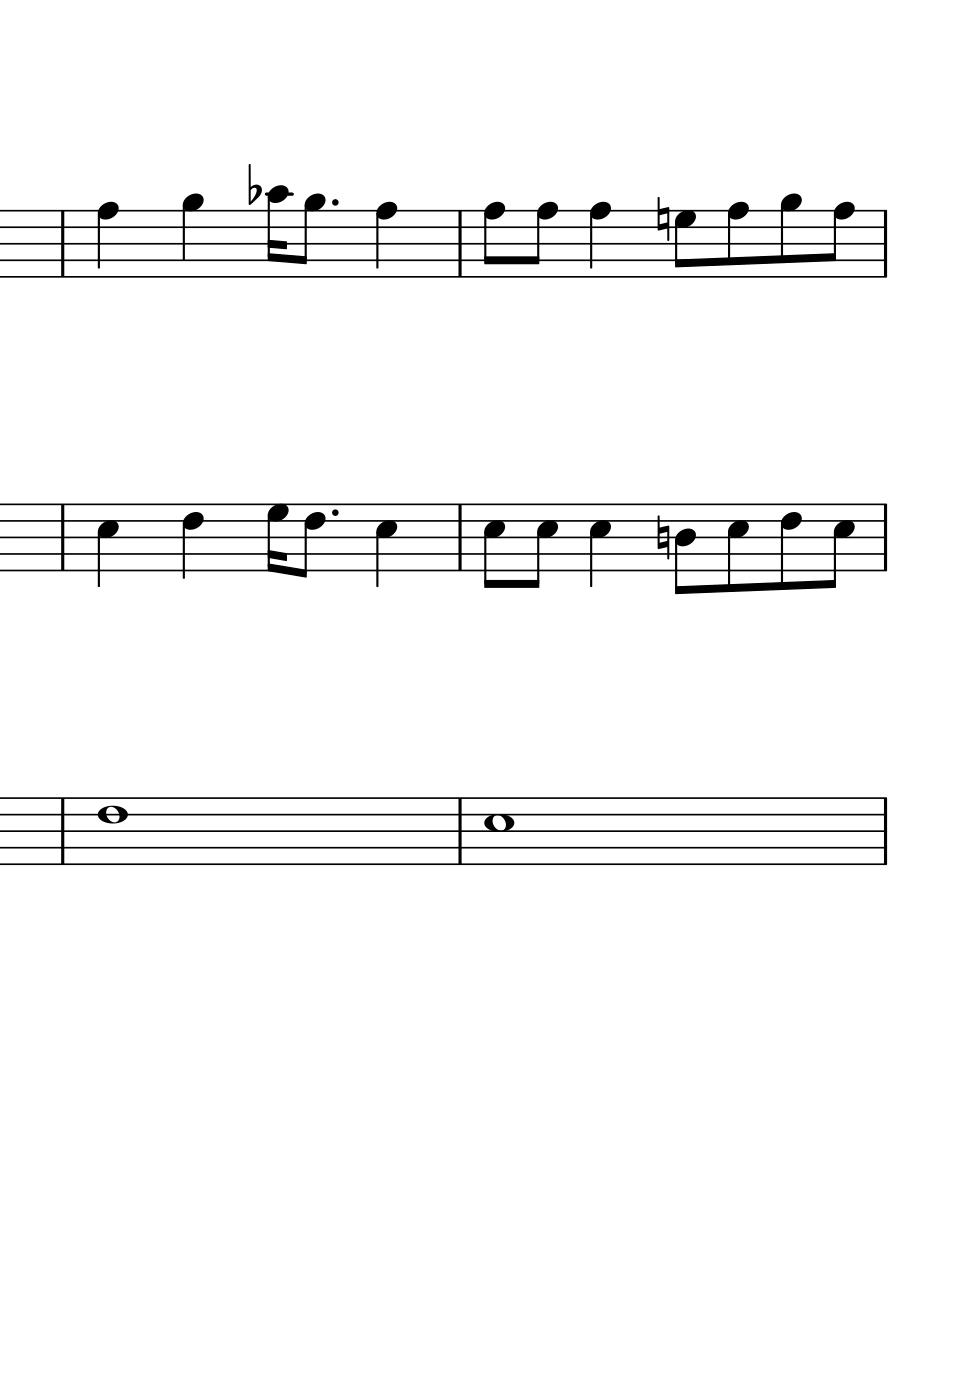16_10: (263, 183, 291, 279)
16_7: (264, 502, 288, 575)
1_5: (482, 795, 514, 867)
1_6: (95, 795, 128, 869)
4_5: (94, 501, 120, 590), (587, 502, 612, 590), (373, 503, 399, 590)
4_6: (179, 502, 205, 582)
4_8: (93, 201, 120, 281), (372, 200, 398, 281), (587, 200, 611, 280)
4_9: (179, 191, 204, 279)
8_4: (672, 503, 696, 597)
8_5: (823, 501, 855, 590), (527, 502, 559, 590), (724, 502, 750, 595), (482, 502, 506, 591)
8_6: (297, 502, 327, 580), (777, 501, 802, 593)
8_7: (672, 208, 696, 279)
8_8: (823, 200, 856, 280), (527, 201, 558, 280), (480, 201, 505, 280), (724, 201, 749, 280)
8_9: (296, 192, 326, 279), (778, 192, 803, 280)
Flat: (244, 160, 261, 206)
Natural: (654, 196, 670, 244), (655, 514, 670, 561)
Single_barline: (450, 799, 469, 864), (53, 210, 71, 277), (451, 211, 469, 277), (451, 505, 469, 571), (876, 797, 893, 865), (876, 210, 893, 277), (54, 799, 71, 865), (54, 504, 70, 571), (877, 504, 892, 572)
dot: (328, 506, 342, 520), (328, 197, 340, 209)
